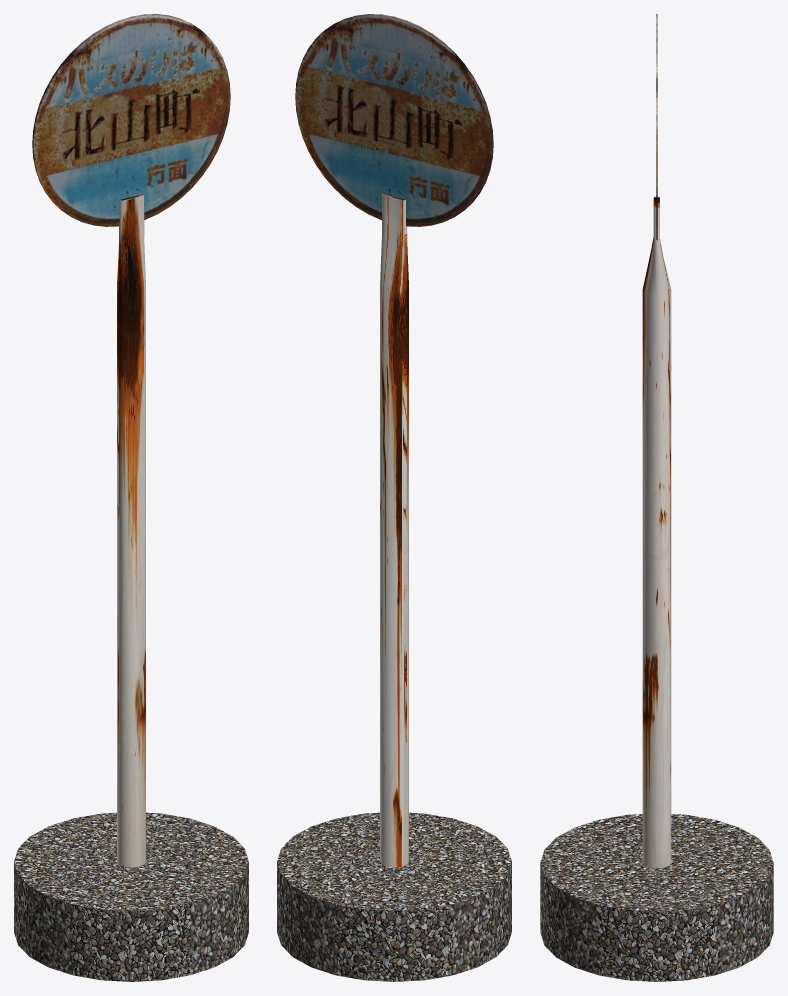
File: bus_stop01.fbx
3 views of the same model, side by side, from view 1: azimuth 30°, elevation 25°; view 2: azimuth 150°, elevation 25°; view 3: azimuth 270°, elevation 25° (orthographic).
Visible parts, largest first — view 1: Empty_Mesh; view 2: Empty_Mesh; view 3: Empty_Mesh.
Boxes of the visible parts, x1,y1,x2,y2 form: Empty_Mesh: (14, 14, 248, 981); Empty_Mesh: (277, 14, 511, 981); Empty_Mesh: (540, 14, 773, 981).
Bounding box in the file's own units: 0.4111 × 1.77 × 0.4111.
